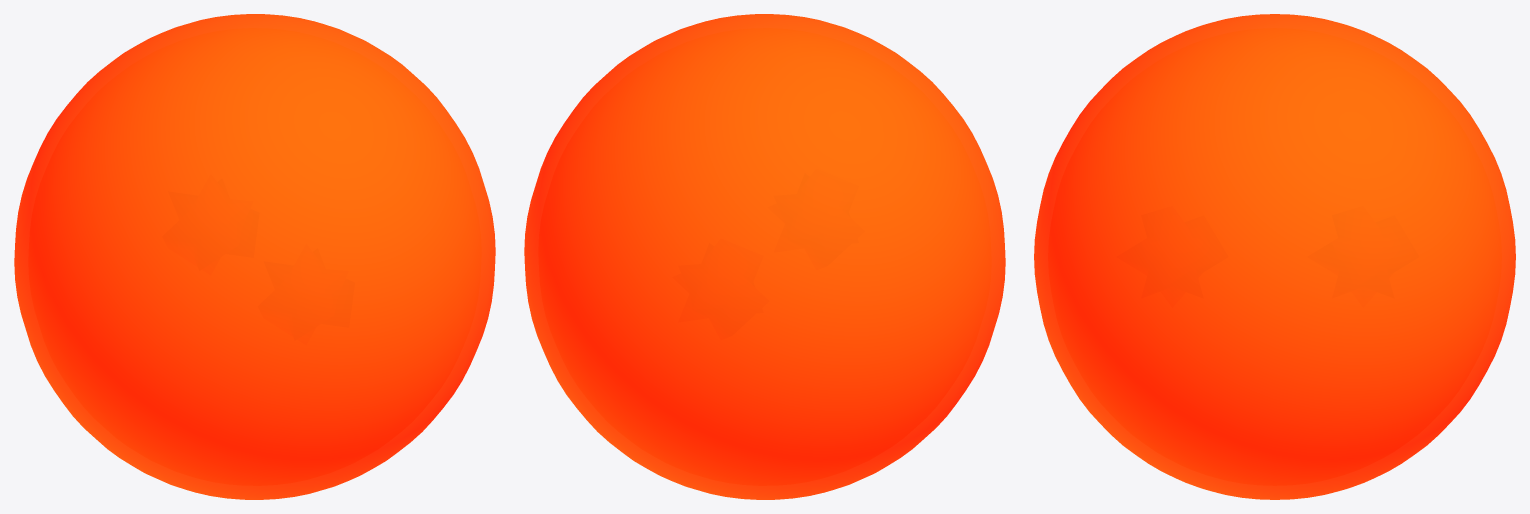
Rendered from dragon ball 2.glb.
3 renders of one model, left to right at view 1: azimuth 30°, elevation 25°; view 2: azimuth 150°, elevation 25°; view 3: azimuth 270°, elevation 25°, orthographic.
Visible parts, largest first — view 1: Dragon ball 2; view 2: Dragon ball 2; view 3: Dragon ball 2.
Part boxes in pixels (bbox=[...]): Dragon ball 2: bbox=[14, 14, 495, 499]; Dragon ball 2: bbox=[524, 14, 1005, 499]; Dragon ball 2: bbox=[1034, 14, 1515, 499].
Size of the model in its own units: 4.28 by 4.34 by 4.28.
